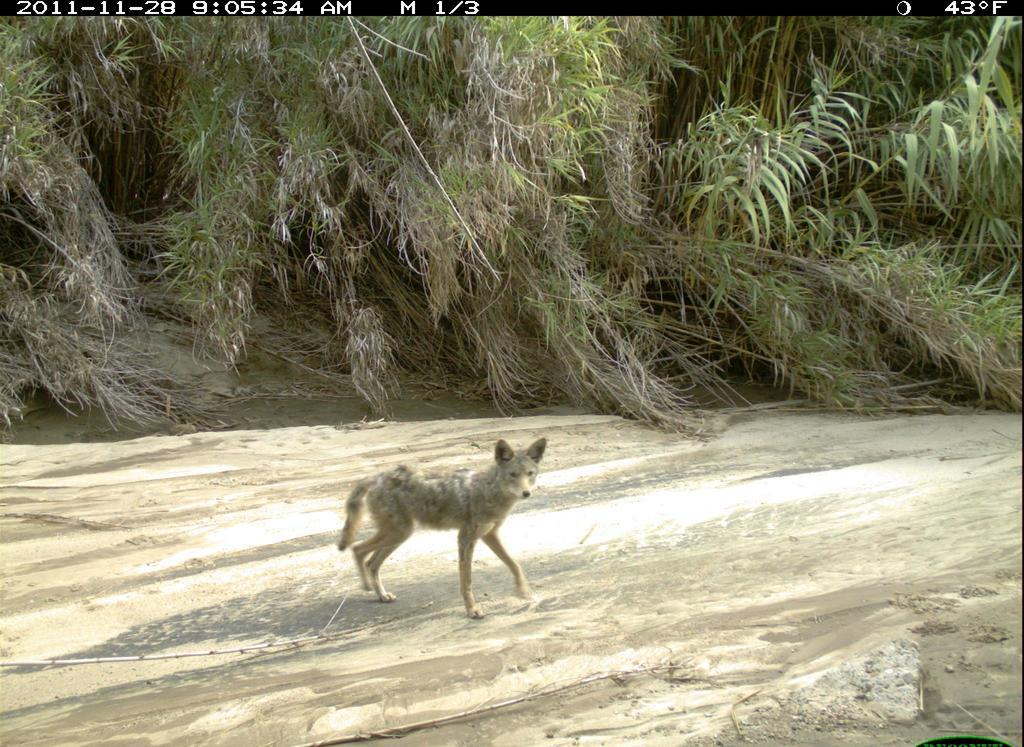coyote: (336, 414, 569, 630)
